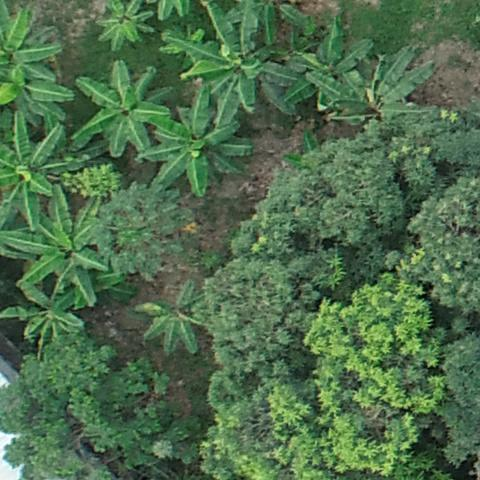Banana-plant: (161, 0, 312, 127), (137, 88, 254, 202), (6, 185, 108, 309), (0, 110, 94, 232), (63, 60, 171, 162), (334, 41, 446, 130), (279, 20, 371, 121), (132, 281, 222, 358), (0, 3, 71, 89), (0, 281, 86, 345), (88, 0, 158, 53)
